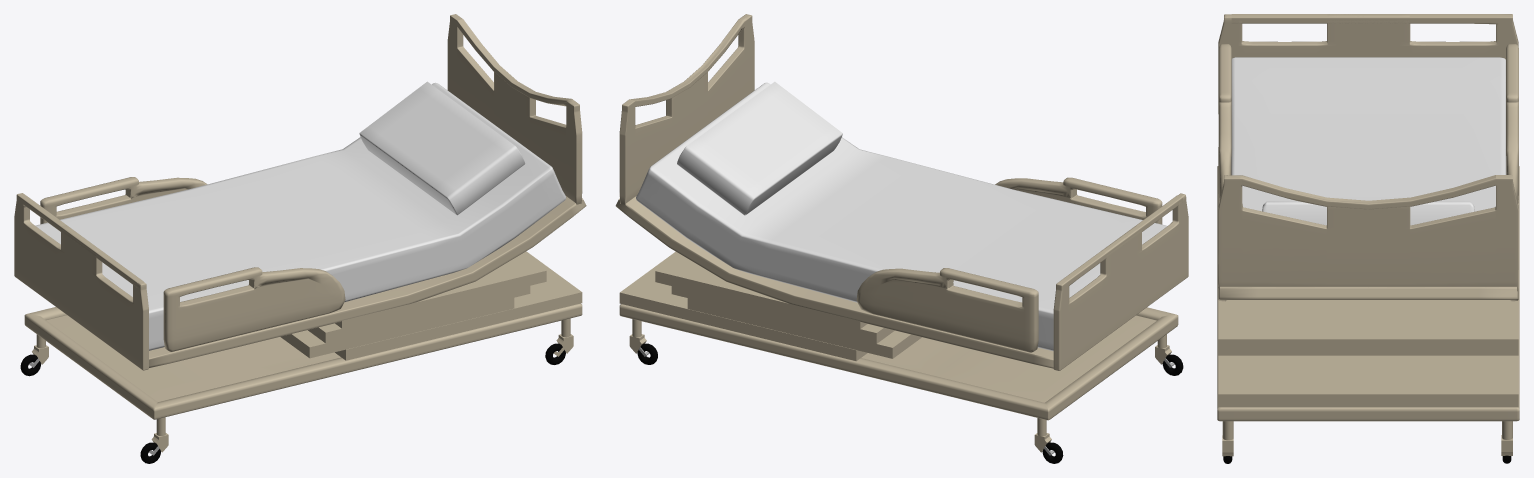
The model's file is Patient Bed.fbx.
3 renders of one model, left to right at view 1: azimuth 30°, elevation 25°; view 2: azimuth 150°, elevation 25°; view 3: azimuth 270°, elevation 25°, orthographic. The views are drawn at different scales.
Visible parts, largest first — view 1: bedding, pCube3, pCube16, pCube18, pCube17, pCube19, pCube7, pCube4, pCube8, pCube61, pCube5, pCube6; view 2: bedding, pCube3, pCube16, pCube18, pCube61, pCube19, pCube7, pCube4, pCube8, pCube17, pCube5, pCube6; view 3: bedding, pCube19, pCube4, pCube8, pCube18, pCube3, pCube7, pCube16, pCube17, pCube61, pCube5.
Boxes of the visible parts, <box> form: bedding: <box>35,82,566,350</box>; pCube3: <box>24,303,582,419</box>; pCube16: <box>359,81,525,215</box>; pCube18: <box>14,193,148,370</box>; pCube17: <box>163,267,345,351</box>; pCube19: <box>447,14,582,204</box>; pCube7: <box>149,196,586,368</box>; pCube4: <box>335,251,582,360</box>; pCube8: <box>335,253,546,331</box>; pCube61: <box>40,177,207,224</box>; pCube5: <box>280,298,514,358</box>; pCube6: <box>308,283,530,343</box>; bedding: <box>636,82,1167,351</box>; pCube3: <box>619,304,1178,420</box>; pCube16: <box>677,81,842,215</box>; pCube18: <box>1053,193,1188,370</box>; pCube61: <box>856,268,1038,352</box>; pCube19: <box>619,14,754,204</box>; pCube7: <box>615,196,1053,368</box>; pCube4: <box>619,251,867,361</box>; pCube8: <box>655,253,867,331</box>; pCube17: <box>995,177,1162,224</box>; pCube5: <box>687,298,921,358</box>; pCube6: <box>671,286,894,343</box>; bedding: <box>1231,57,1506,211</box>; pCube19: <box>1218,175,1518,291</box>; pCube4: <box>1218,355,1518,407</box>; pCube8: <box>1218,300,1518,351</box>; pCube18: <box>1218,14,1518,113</box>; pCube3: <box>1217,166,1519,421</box>; pCube7: <box>1218,147,1518,301</box>; pCube16: <box>1262,201,1474,225</box>; pCube17: <box>1218,44,1231,201</box>; pCube61: <box>1506,44,1518,203</box>; pCube5: <box>1218,352,1518,355</box>.
Bounding box in the file's own units: 9.15 × 5.03 × 4.64.
